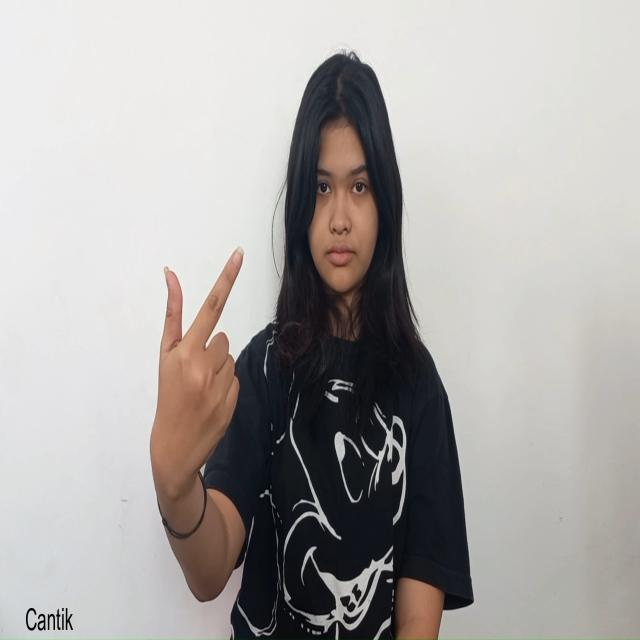Cantik -BISINDO-: (148, 243, 245, 508)
